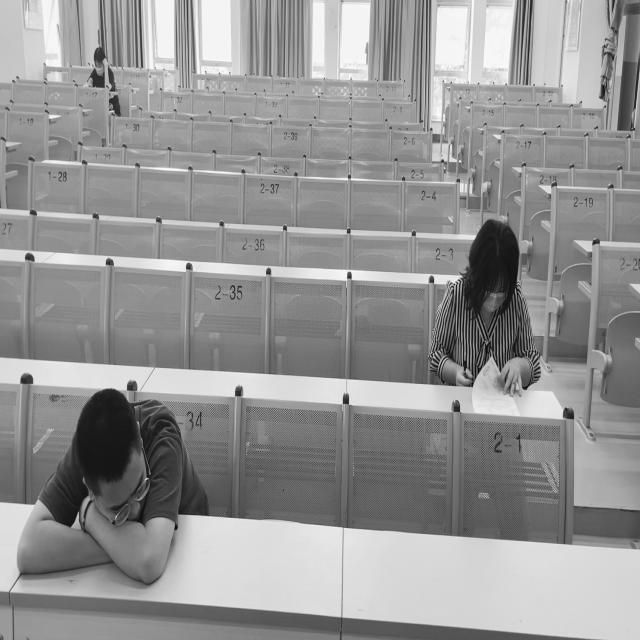sleep: (15, 388, 202, 581)
study: (432, 224, 538, 391), (89, 44, 114, 87)
